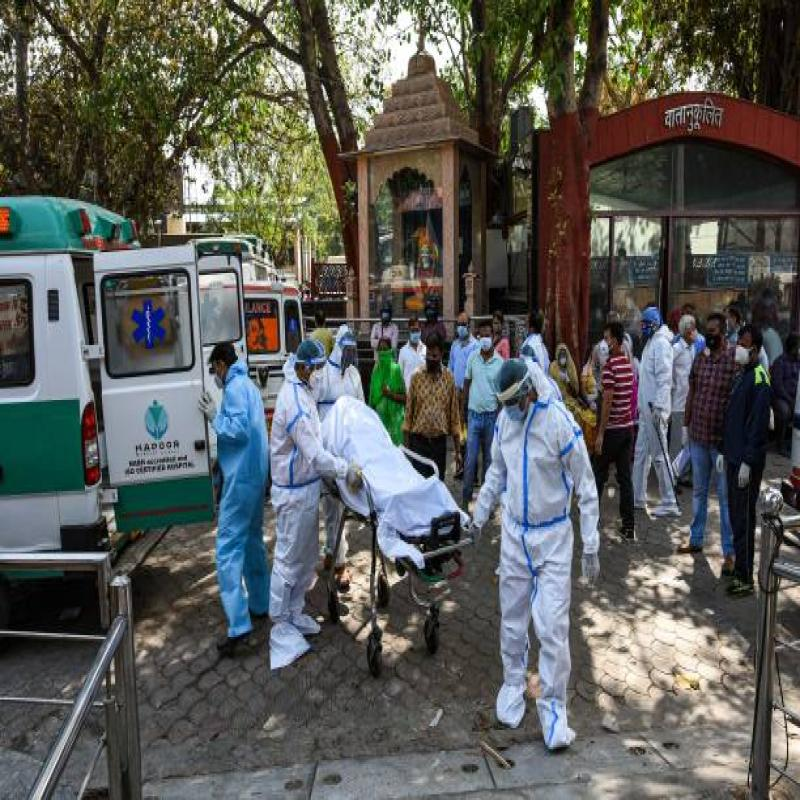ambulance: (0, 212, 184, 616)
